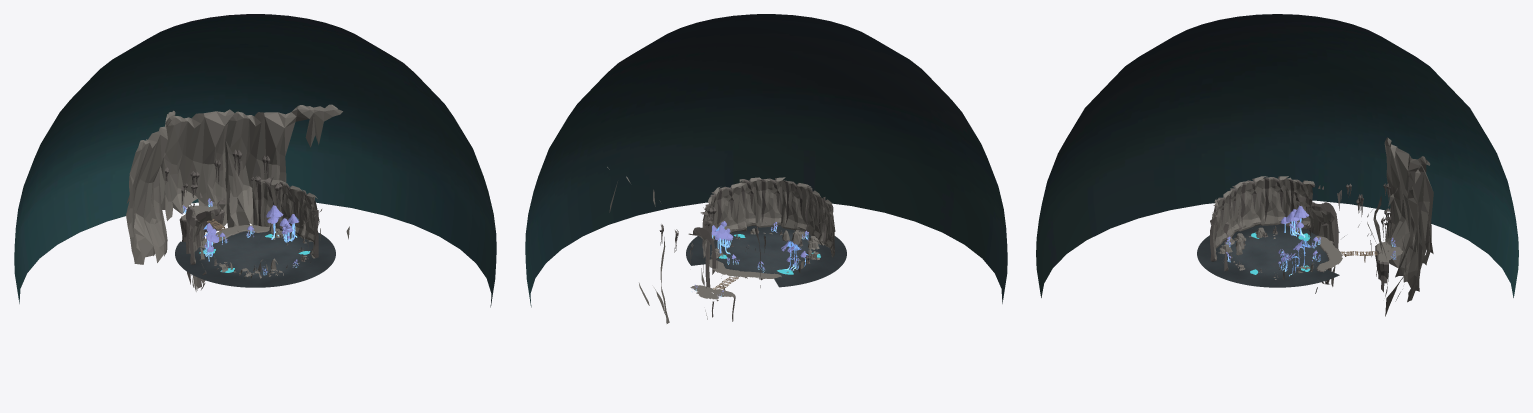
Rendered from arena_cavern.glb.
3 views of the same model, side by side, from view 1: azimuth 30°, elevation 25°; view 2: azimuth 150°, elevation 25°; view 3: azimuth 270°, elevation 25° (orthographic).
Visible parts, largest first — view 1: Sky, Arena_Atlas, Floor, Arena_Shroom; view 2: Sky, Arena_Atlas, Floor, Arena_Shroom; view 3: Sky, Arena_Atlas, Floor, Arena_Shroom.
Part boxes in pixels (bbox=[...]): Sky: bbox=[14, 14, 496, 307]; Arena_Atlas: bbox=[126, 104, 349, 291]; Floor: bbox=[175, 228, 335, 287]; Arena_Shroom: bbox=[181, 198, 299, 275]; Sky: bbox=[525, 14, 1007, 307]; Arena_Atlas: bbox=[607, 167, 835, 323]; Floor: bbox=[686, 225, 846, 287]; Arena_Shroom: bbox=[691, 221, 808, 297]; Sky: bbox=[1036, 14, 1518, 297]; Arena_Atlas: bbox=[1210, 137, 1433, 316]; Floor: bbox=[1197, 224, 1339, 287]; Arena_Shroom: bbox=[1225, 205, 1396, 276].
Bounding box in the file's own units: 180 × 110 × 180.
5 materials, 4 textured.
